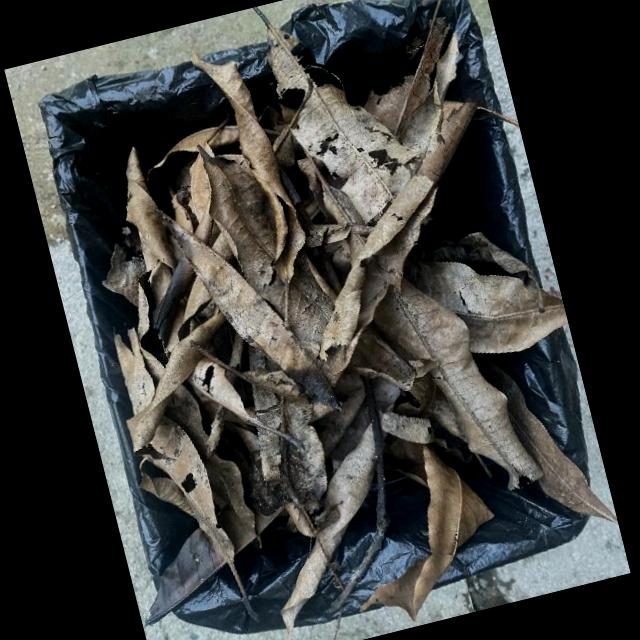la_cay: (318, 99, 478, 360), (153, 205, 342, 410), (372, 277, 543, 489), (191, 52, 305, 330), (472, 352, 618, 524), (360, 439, 494, 622), (139, 421, 259, 620), (281, 422, 375, 640), (291, 82, 420, 226), (402, 242, 568, 352), (162, 384, 261, 548), (196, 144, 284, 319), (125, 312, 227, 460), (353, 187, 438, 337), (287, 245, 365, 386), (125, 146, 176, 308), (420, 227, 540, 288), (145, 125, 239, 200), (252, 6, 310, 109)
